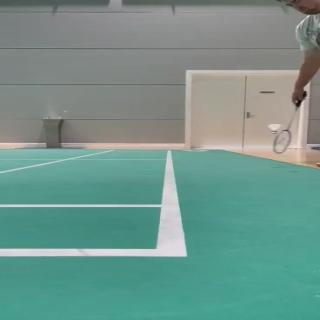Shuttle: (268, 124, 281, 134)
